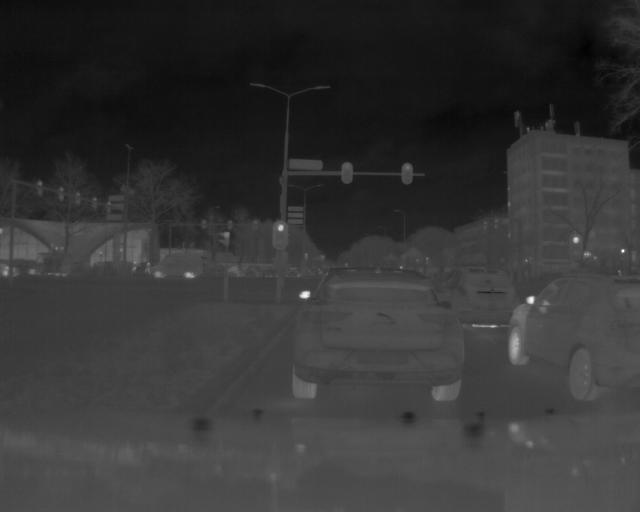car: (284, 261, 473, 409), (505, 266, 640, 406), (429, 268, 524, 341), (146, 251, 205, 282)
